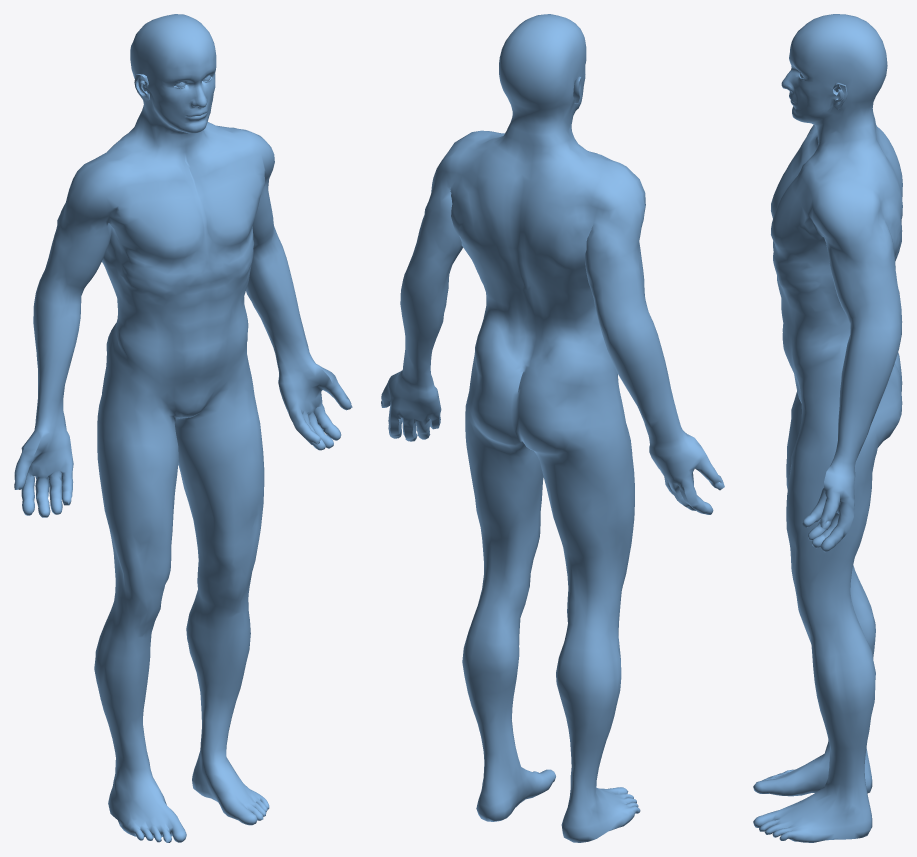
Rendered from Anatomy_Man_Silhouette.fbx.
3 renders of one model, left to right at view 1: azimuth 30°, elevation 25°; view 2: azimuth 150°, elevation 25°; view 3: azimuth 270°, elevation 25°, orthographic.
Parts seen in each view (by area): view 1: Anatomy_Man_Silhouette:Man_Silhouette; view 2: Anatomy_Man_Silhouette:Man_Silhouette; view 3: Anatomy_Man_Silhouette:Man_Silhouette.
Boxes of the visible parts, left/top/right/bottom form: Anatomy_Man_Silhouette:Man_Silhouette: left=14, top=14, right=352, bottom=842; Anatomy_Man_Silhouette:Man_Silhouette: left=381, top=14, right=724, bottom=842; Anatomy_Man_Silhouette:Man_Silhouette: left=753, top=14, right=902, bottom=842.
Bounding box in the file's own units: 80.27 × 179 × 30.6.
